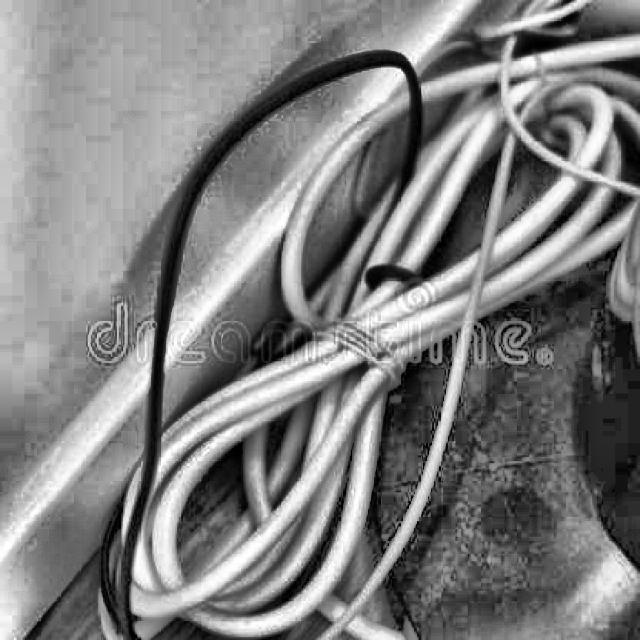Cable: (103, 0, 640, 640), (87, 43, 422, 640)
